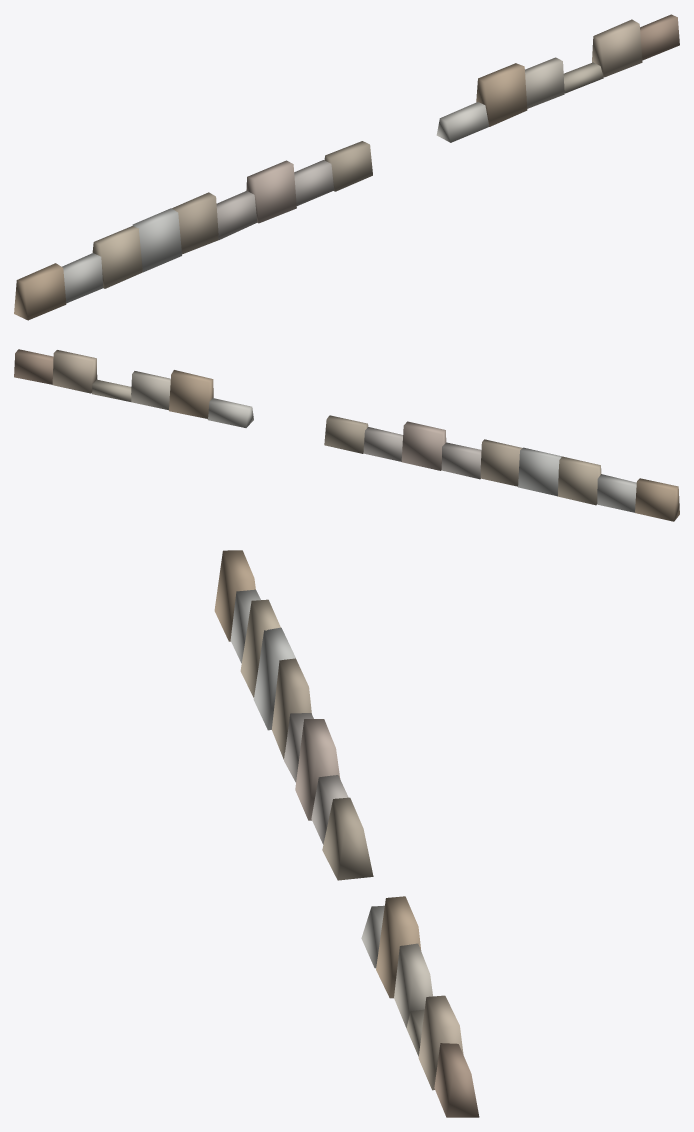
File: farm_-25_-22_far.glb
The picture shows the model from 3 angles, top to bottom: view 1: azimuth 30°, elevation 25°; view 2: azimuth 150°, elevation 25°; view 3: azimuth 270°, elevation 25°; orthographic projection. The views are drawn at different scales.
Parts seen in each view (by area): view 1: geometry_0; view 2: geometry_0; view 3: geometry_0.
Part boxes in pixels (x1,y1,x2,y2): geometry_0: (14, 14, 679, 320); geometry_0: (14, 349, 679, 521); geometry_0: (214, 550, 479, 1117).
Size of the model in its own units: 26.46 by 2.87 by 5.02.
